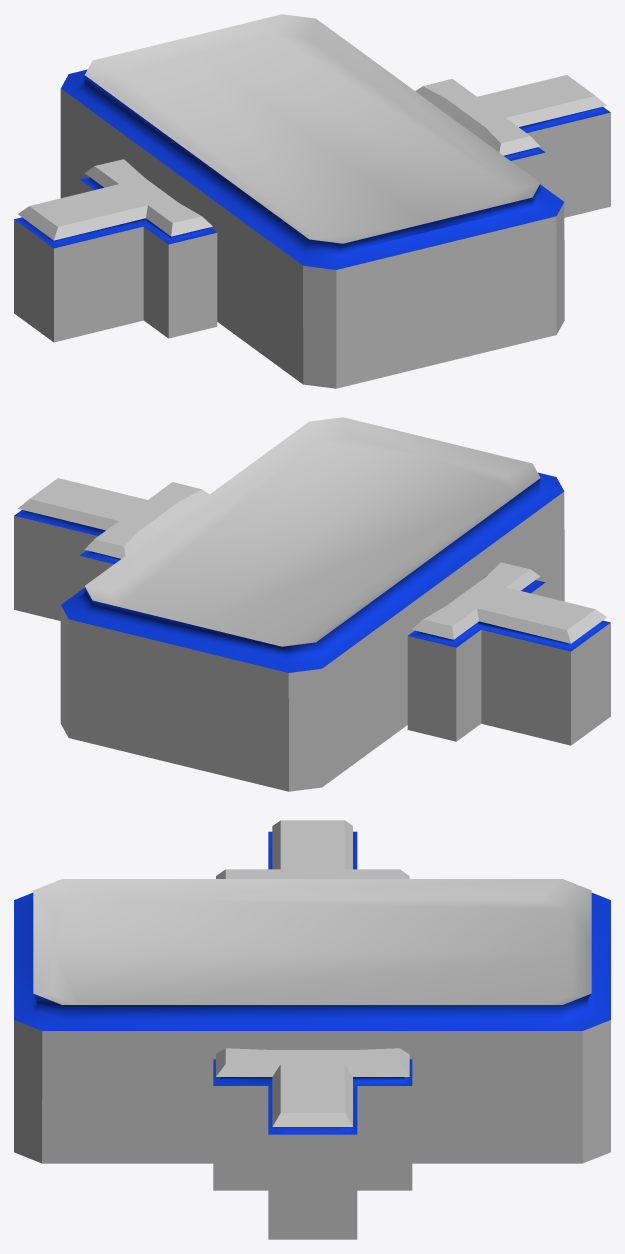
The model's file is LevelGeo.fbx.
3 renders of one model, top to bottom at view 1: azimuth 30°, elevation 25°; view 2: azimuth 150°, elevation 25°; view 3: azimuth 270°, elevation 25°, orthographic. The views are drawn at different scales.
Visible parts, largest first — view 1: Plane; view 2: Plane; view 3: Plane.
Boxes of the visible parts, x1,y1,x2,y2 form: Plane: [14, 14, 610, 388]; Plane: [14, 417, 610, 791]; Plane: [14, 820, 610, 1239].
Size of the model in its own units: 1612 by 373 by 1341.
